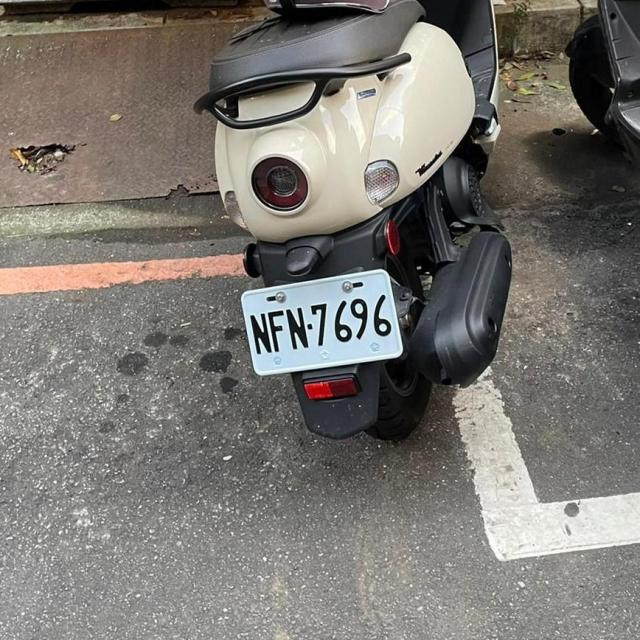W: (237, 261, 408, 381)
